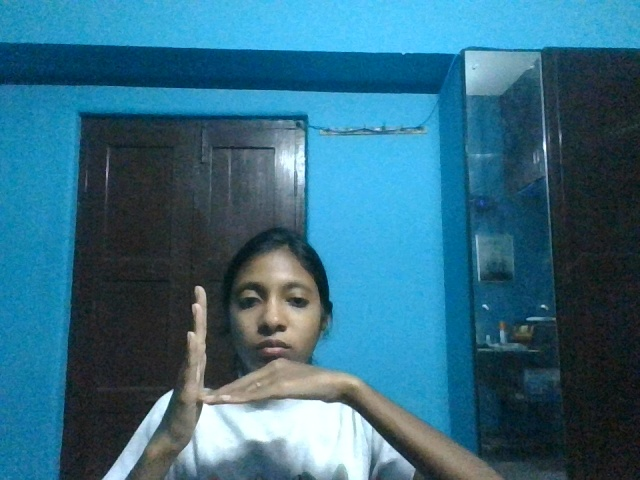Z: (161, 281, 378, 463)
